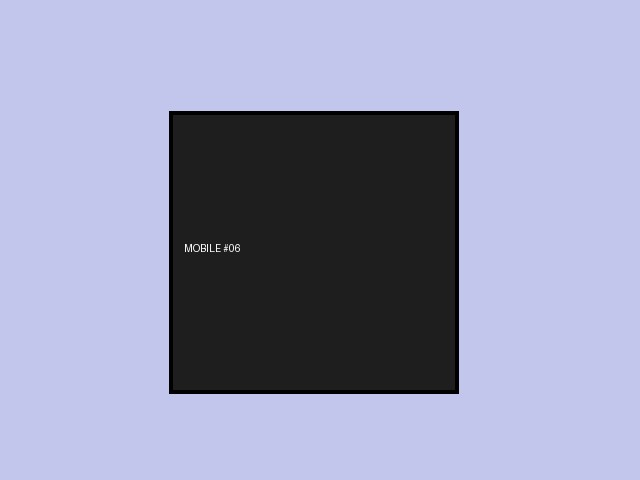mobile_phone: (169, 111, 458, 393)
